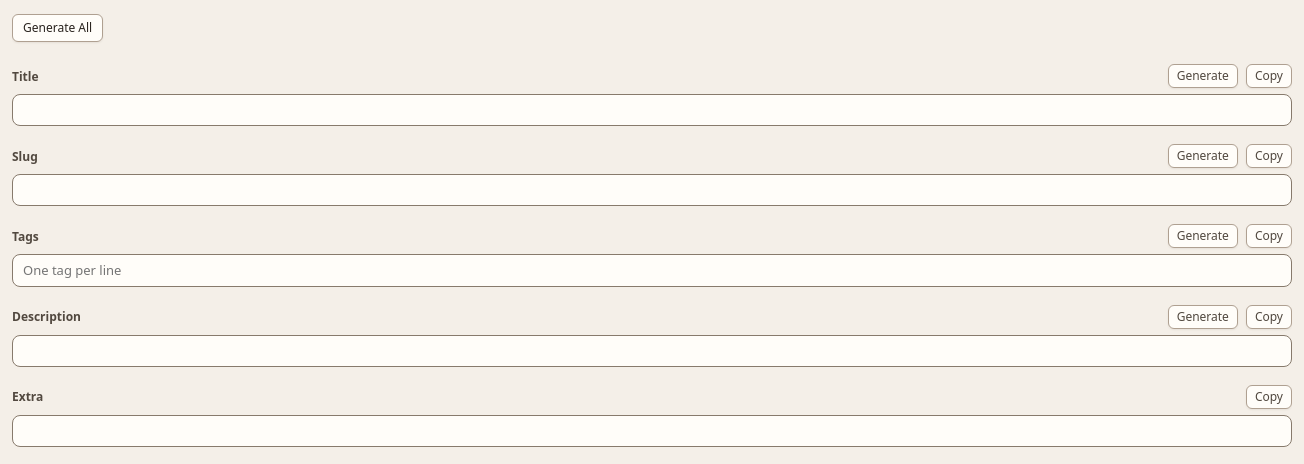
Test: MetadataTab copy and error dismiss › copies the Title value to the clipboard and flips the label
In the text box labelled "Title": {"x": 652, "y": 110} [12,94,1292,126], type "Copy me"
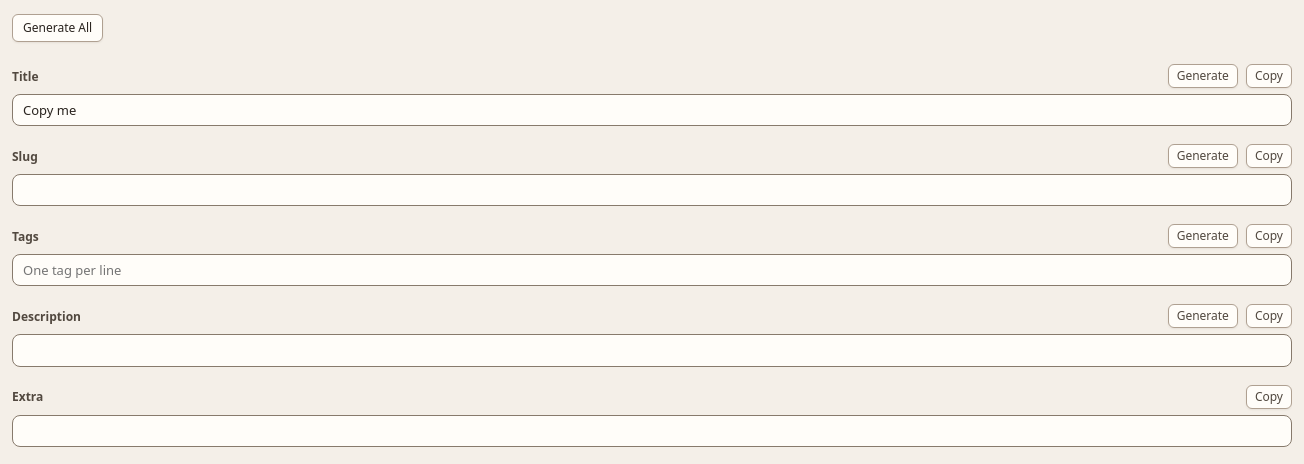
Click the button with class "meta-field-copy" in the row of "Title": {"x": 1269, "y": 76} [1246,64,1292,88]
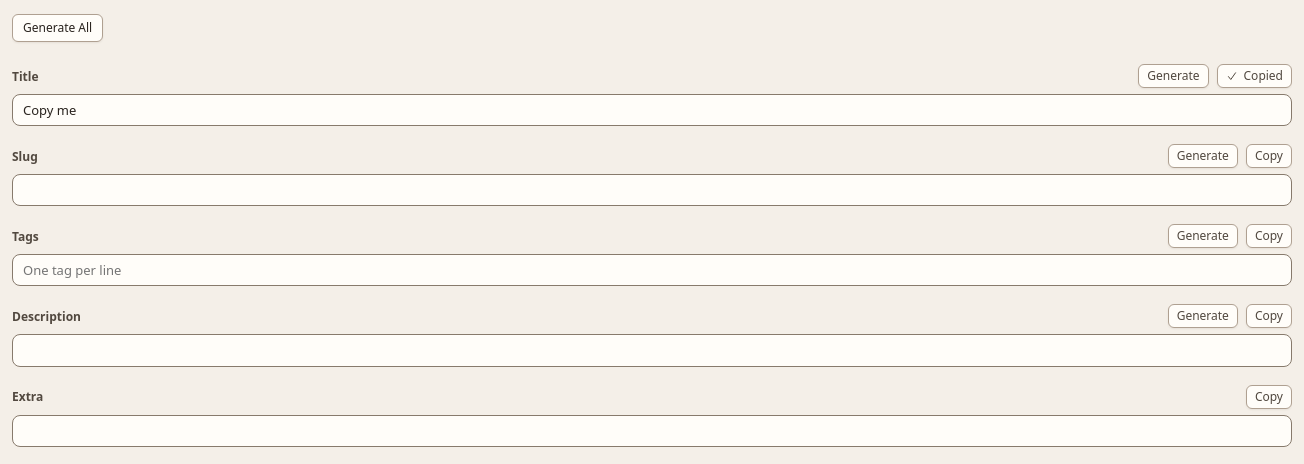
Expected: the button with class "meta-field-copy" reads "Copied", [1216,64,1292,88]
